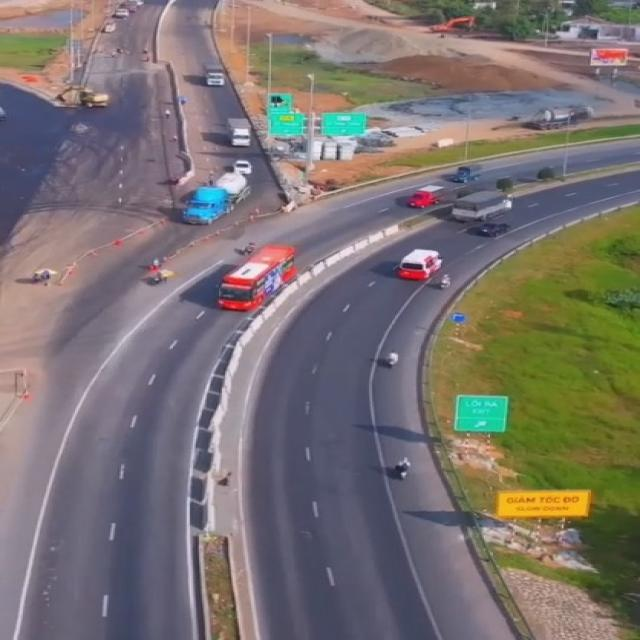bus: (211, 244, 305, 313), (395, 248, 444, 283)
car: (474, 218, 512, 238), (234, 156, 259, 175)
motorbike: (388, 456, 420, 480), (144, 266, 173, 286), (381, 347, 400, 370)
truck: (184, 169, 262, 228), (449, 189, 516, 223), (401, 184, 449, 209), (447, 164, 487, 186), (227, 116, 256, 146), (206, 59, 232, 88)
